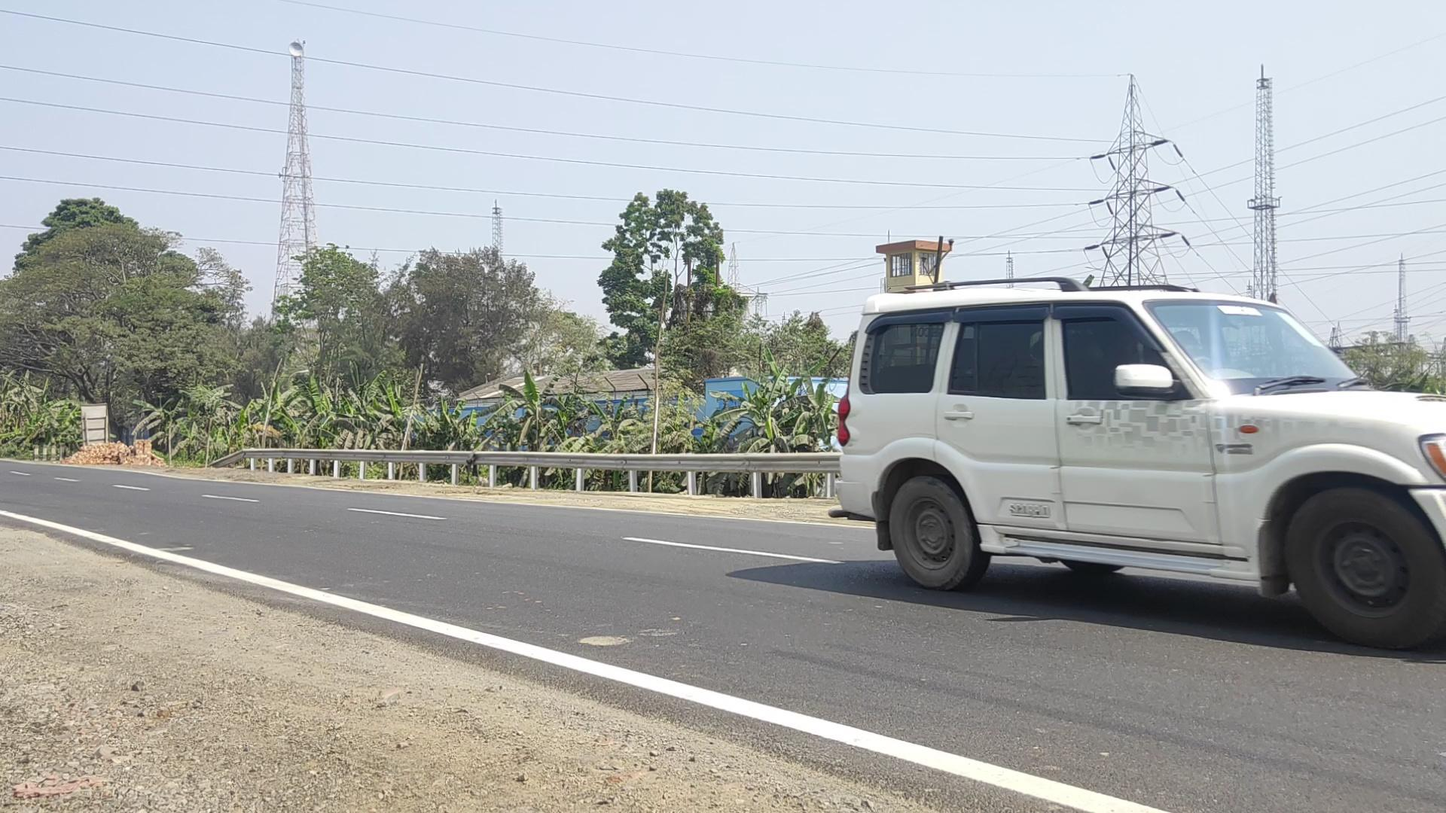car: (829, 276, 1446, 647)
